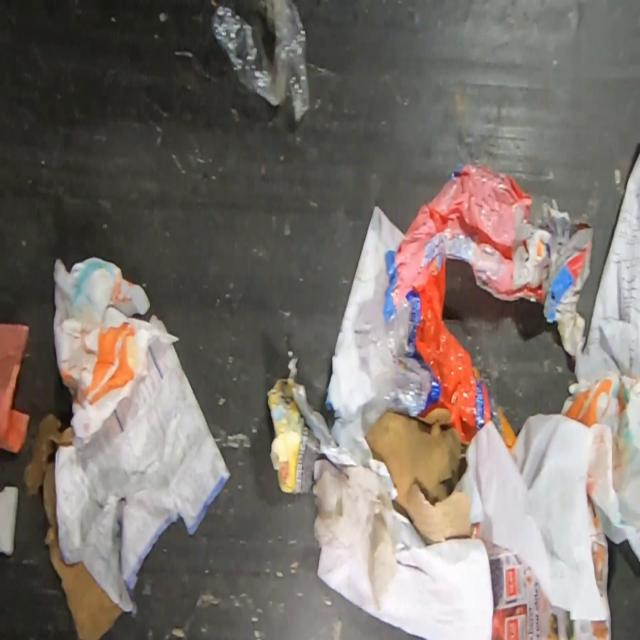cardboard: (21, 411, 123, 640), (364, 408, 474, 546)
soft_plastic: (372, 160, 544, 456), (206, 0, 313, 122)
